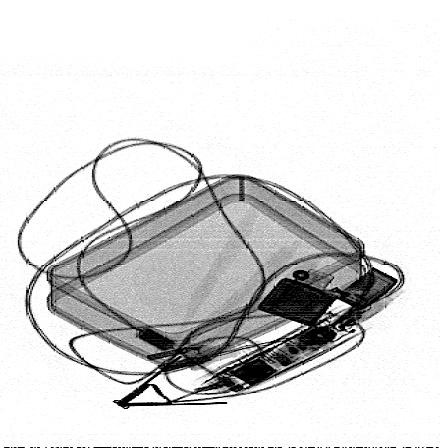Lighter: (258, 266, 398, 327)
